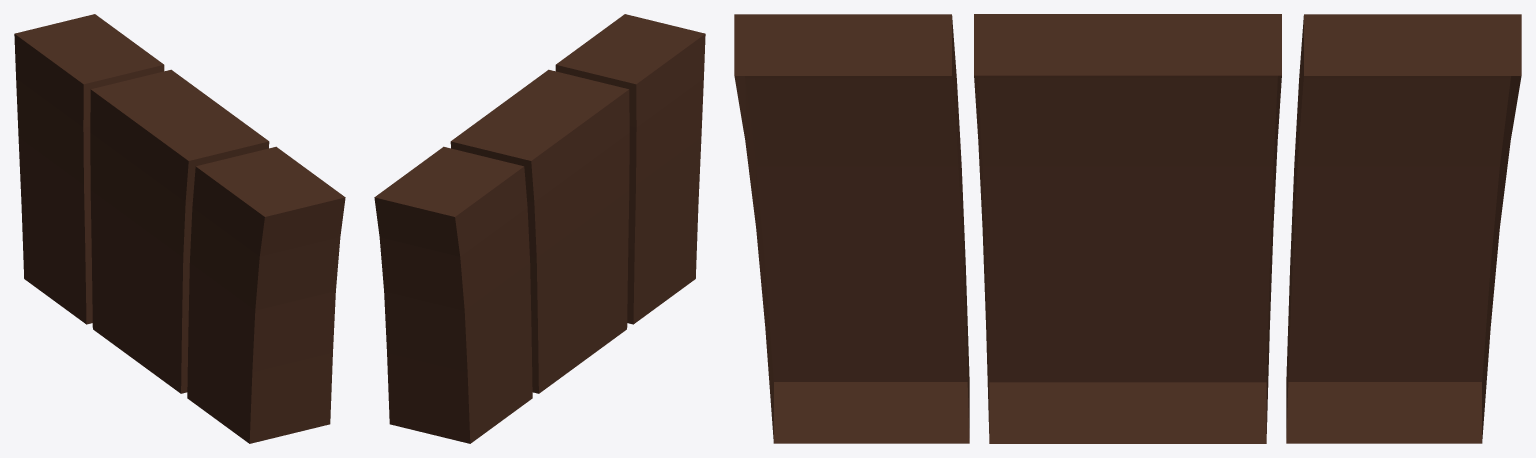
File: LoungeCabinetUV2.fbx
3 renders of one model, left to right at view 1: azimuth 30°, elevation 25°; view 2: azimuth 150°, elevation 25°; view 3: azimuth 270°, elevation 25°, orthographic. The views are drawn at different scales.
Visible parts, largest first — view 1: polySurface9; view 2: polySurface9; view 3: polySurface9.
Part boxes in pixels (x1,y1,x2,y2): polySurface9: [14, 14, 345, 443]; polySurface9: [374, 14, 705, 443]; polySurface9: [734, 14, 1521, 443].
Bounding box in the file's own units: 59.51 × 161 × 309.
